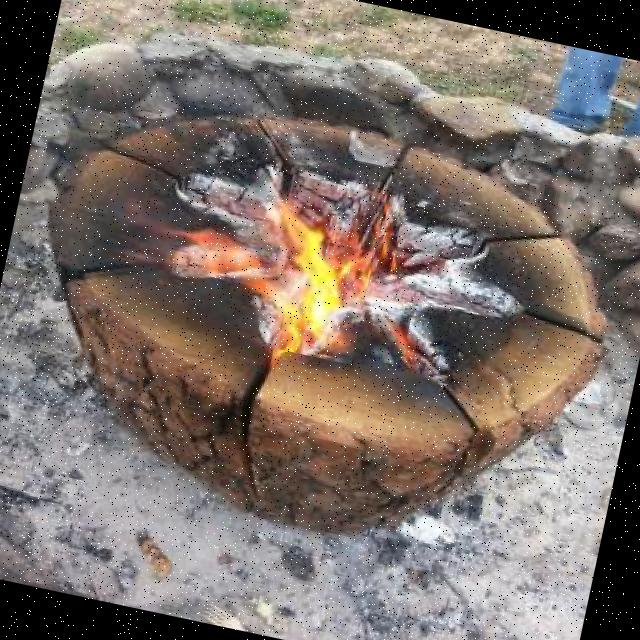fire: (184, 158, 386, 364)
